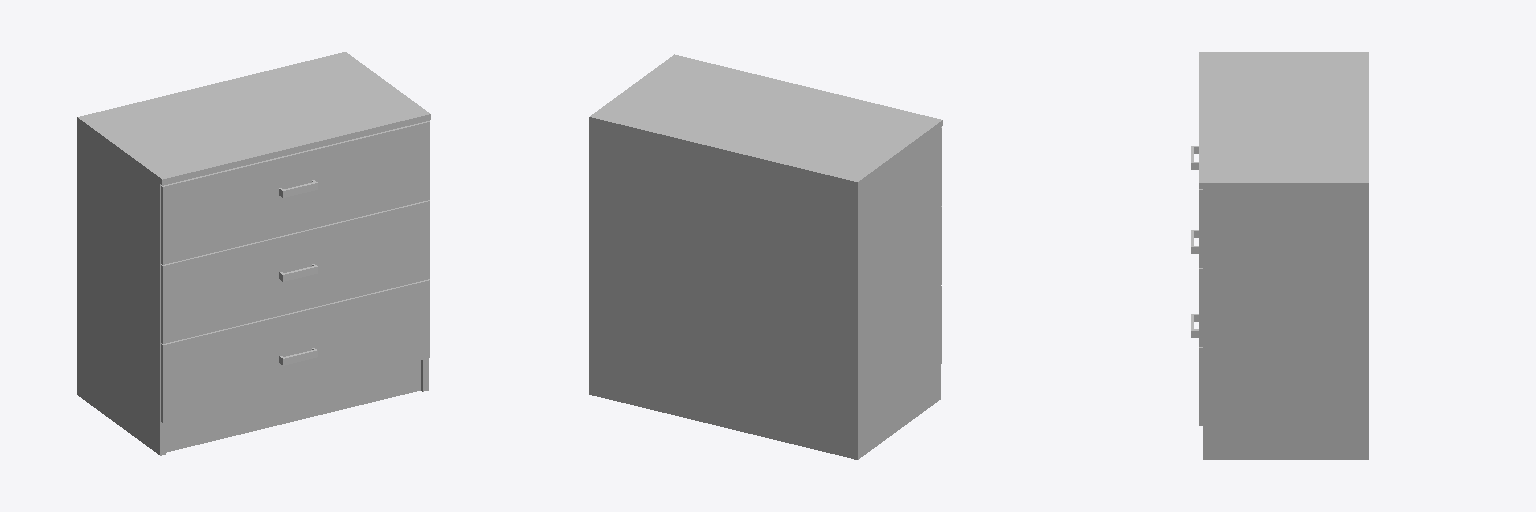
Rendered from ЛОФТ.obj.
3 renders of one model, left to right at view 1: azimuth 30°, elevation 25°; view 2: azimuth 150°, elevation 25°; view 3: azimuth 270°, elevation 25°, orthographic.
Visible parts, largest first — view 1: Cube.005_Cube.007, Cube.003_Cube.005, Cube.002_Cube.013; view 2: Cube.003_Cube.005; view 3: Cube.003_Cube.005, Cube.005_Cube.007.
Boxes of the visible parts, box(x1,y1,x2,y2) form: Cube.005_Cube.007: box(161, 121, 429, 422); Cube.003_Cube.005: box(77, 52, 430, 455); Cube.002_Cube.013: box(279, 180, 317, 365); Cube.003_Cube.005: box(589, 54, 942, 459); Cube.003_Cube.005: box(1199, 52, 1368, 459); Cube.005_Cube.007: box(1199, 189, 1202, 425).
Bounding box in the file's own units: 1.6 × 1.58 × 0.9193.